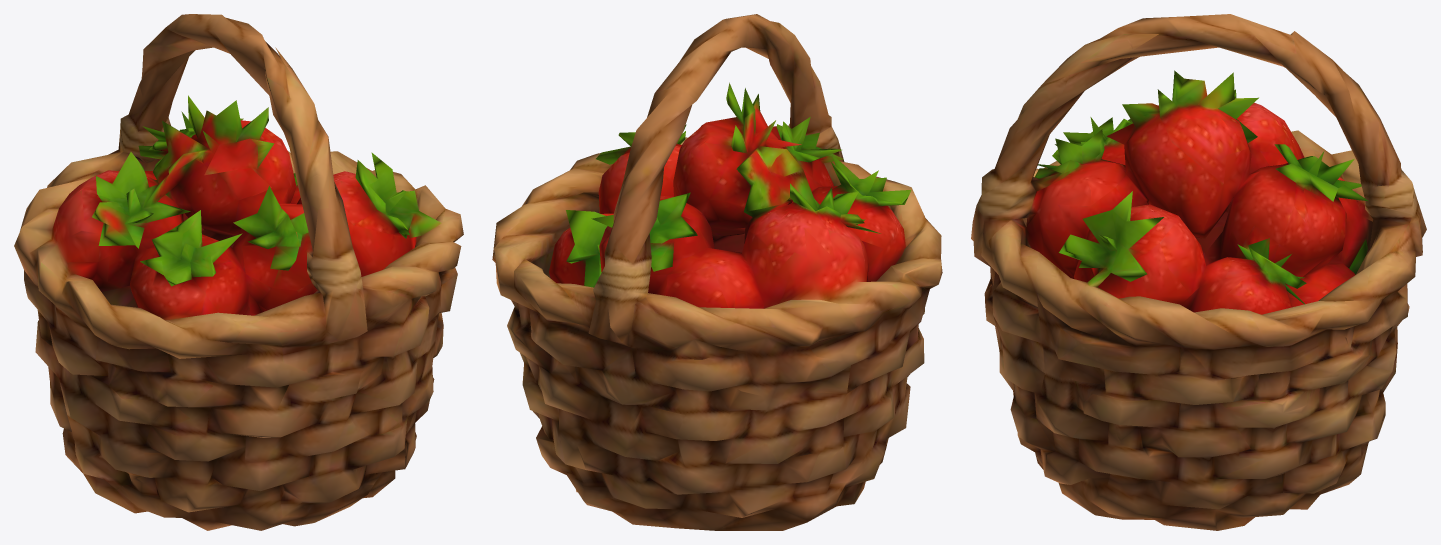
The model's file is SM_Kitchen_Strawberries.glb.
The picture shows the model from 3 angles, left to right: view 1: azimuth 30°, elevation 25°; view 2: azimuth 150°, elevation 25°; view 3: azimuth 270°, elevation 25°; orthographic projection.
Parts seen in each view (by area): view 1: tripo_node_a369669c-5e3c-4b92-b4e3-c80b765e38d7; view 2: tripo_node_a369669c-5e3c-4b92-b4e3-c80b765e38d7; view 3: tripo_node_a369669c-5e3c-4b92-b4e3-c80b765e38d7.
Part boxes in pixels (box(x1,y1,x2,y2)): tripo_node_a369669c-5e3c-4b92-b4e3-c80b765e38d7: box(14, 14, 463, 530); tripo_node_a369669c-5e3c-4b92-b4e3-c80b765e38d7: box(492, 14, 942, 530); tripo_node_a369669c-5e3c-4b92-b4e3-c80b765e38d7: box(971, 14, 1426, 530).
Size of the model in its own units: 0.9277 by 1 by 0.9139.
1 material, 1 textured.
